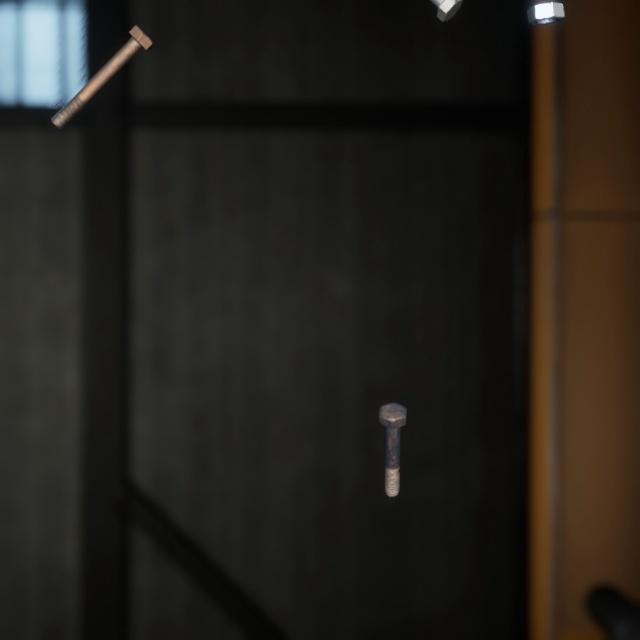bolt: (46, 10, 158, 122), (374, 378, 411, 481), (426, 0, 466, 23)
